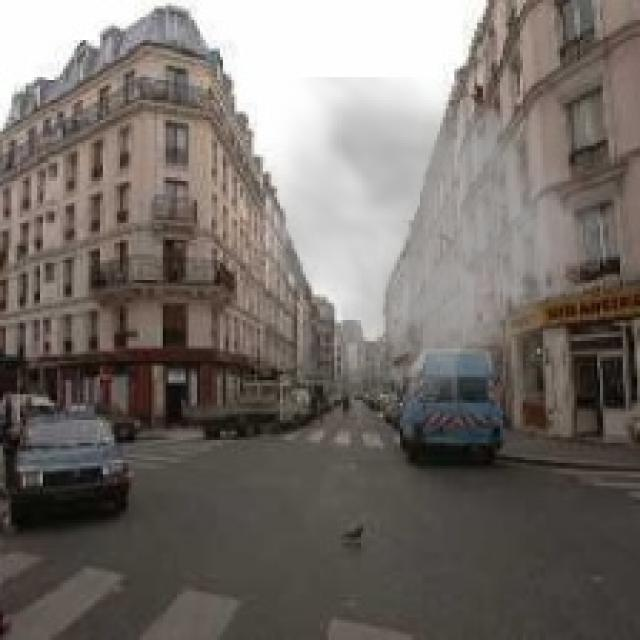smoke: (234, 77, 620, 432)
